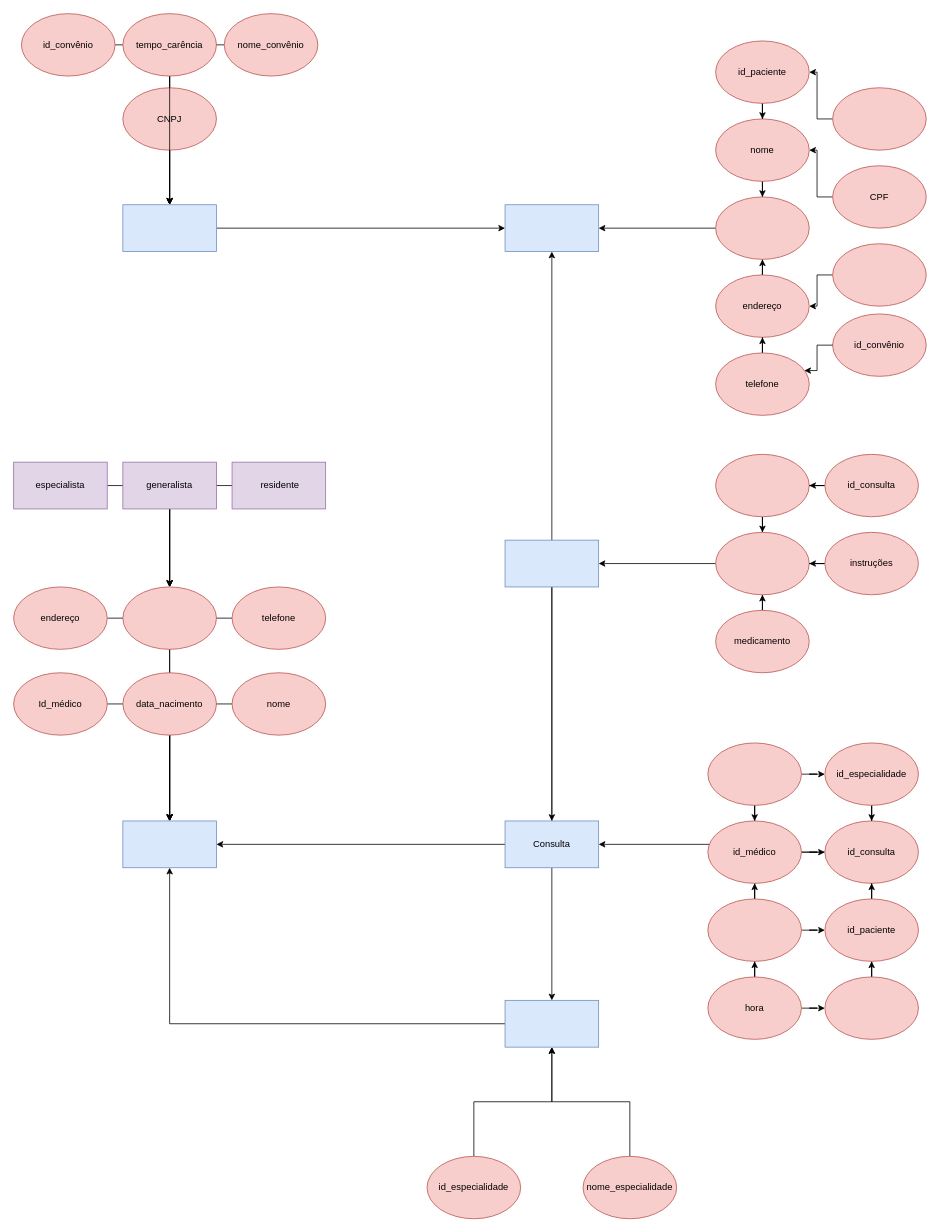
The diagram is 940 pixels wide and 1232 high, and some of its shapes have lost their labels. Here are the shapes that lost their labels. From the top down, the centre of each, then its label:
the point at 879,118: email
the point at 169,228: Convênios
the point at 551,228: Pacientes
the point at 762,227: data_nascimento
the point at 879,274: RG
the point at 762,485: id_receita
the point at 551,563: Receitas
the point at 762,563: quantidade
the point at 169,617: tipo
the point at 754,773: valor
the point at 169,844: Médico
the point at 754,929: número_carteira
the point at 551,1023: Especialidades
the point at 871,1007: data
